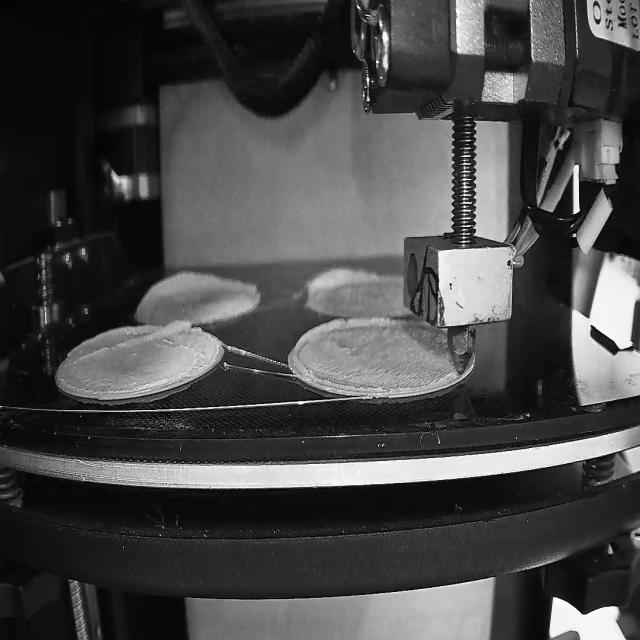over_extrusion: (294, 314, 394, 384), (74, 314, 190, 366), (136, 267, 262, 313), (303, 264, 380, 301)
